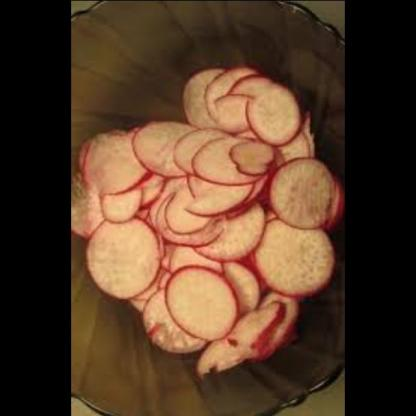rediska: (70, 62, 336, 373)
